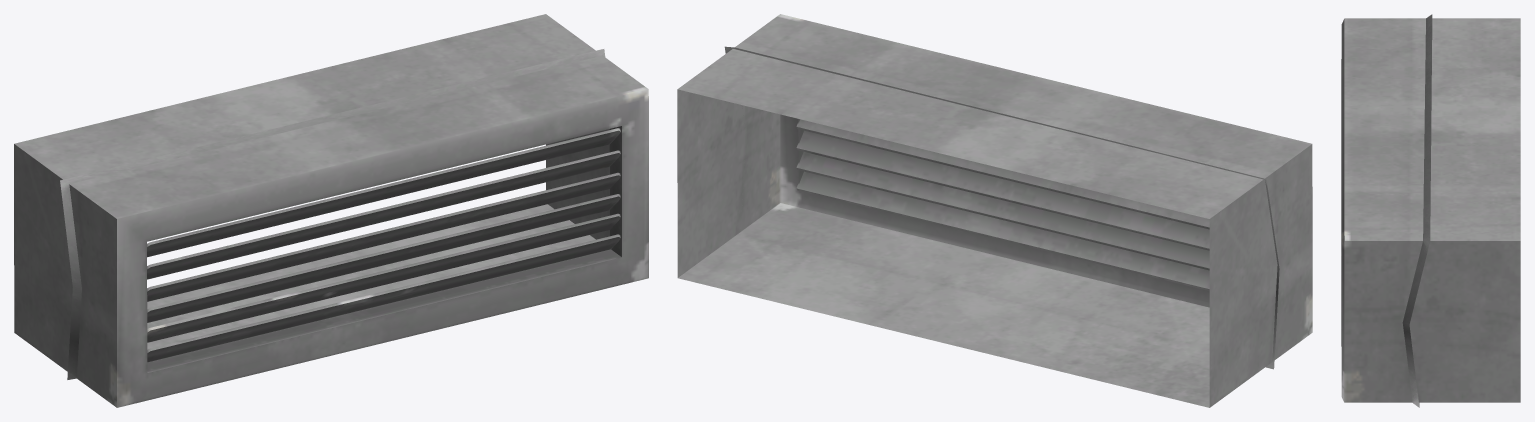
File: SM_Air_Vent_01d.glb
3 renders of one model, left to right at view 1: azimuth 30°, elevation 25°; view 2: azimuth 150°, elevation 25°; view 3: azimuth 270°, elevation 25°, orthographic. The views are drawn at different scales.
Visible parts, largest first — view 1: SM_Air_Vent_01d; view 2: SM_Air_Vent_01d; view 3: SM_Air_Vent_01d.
Boxes of the visible parts, x1,y1,x2,y2 form: SM_Air_Vent_01d: (14,14,648,407); SM_Air_Vent_01d: (677,14,1312,407); SM_Air_Vent_01d: (1341,14,1520,407).
Size of the model in its own units: 0.5441 by 0.1866 by 0.1818.
Materials: 1 (1 with a texture image).
